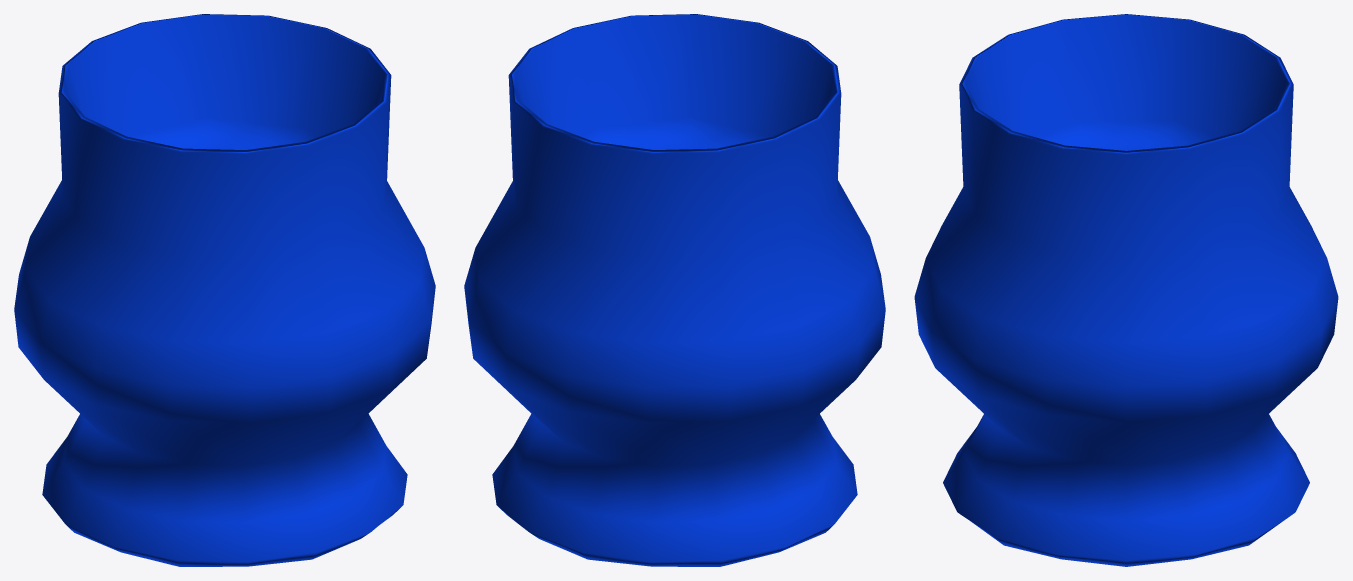
Rendered from Cup_02.fbx.
3 renders of one model, left to right at view 1: azimuth 30°, elevation 25°; view 2: azimuth 150°, elevation 25°; view 3: azimuth 270°, elevation 25°, orthographic.
Parts seen in each view (by area): view 1: Cup_02; view 2: Cup_02; view 3: Cup_02.
Boxes of the visible parts, left/top/right/bottom form: Cup_02: left=14, top=14, right=435, bottom=566; Cup_02: left=464, top=14, right=885, bottom=566; Cup_02: left=914, top=14, right=1338, bottom=566.
Size of the model in its own units: 16.94 by 18.19 by 16.94.
